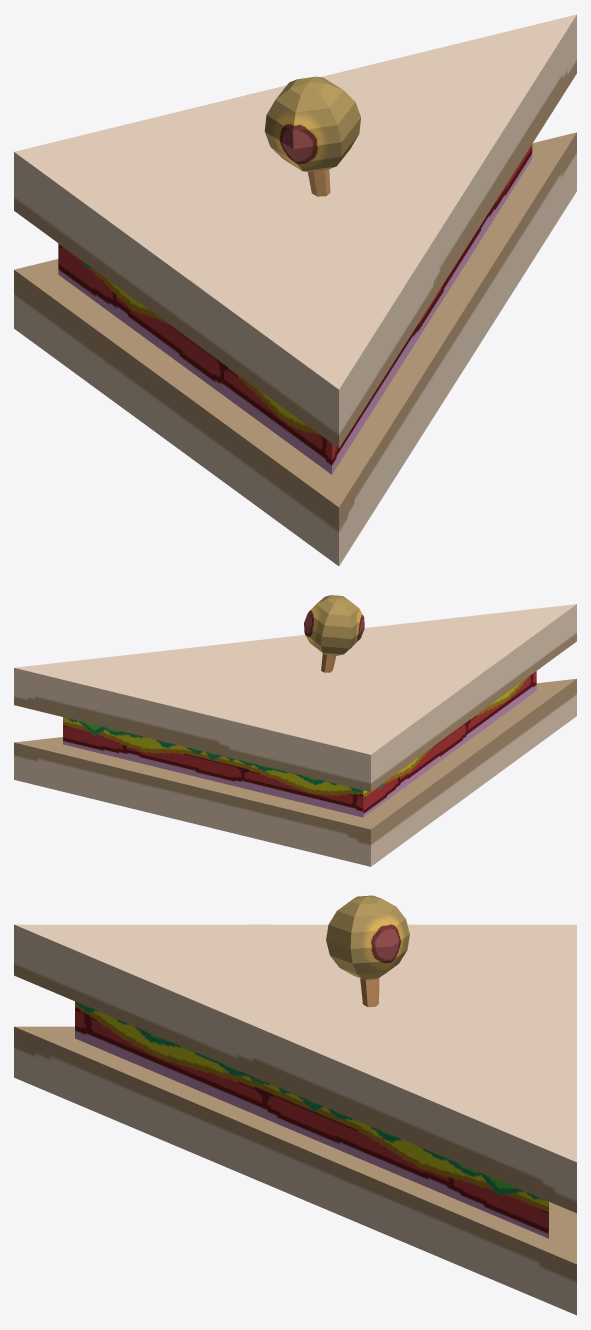
Rendered from Sandwich.fbx.
The picture shows the model from 3 angles, top to bottom: view 1: azimuth 30°, elevation 25°; view 2: azimuth 150°, elevation 25°; view 3: azimuth 270°, elevation 25°; orthographic projection. The views are drawn at different scales.
Parts seen in each view (by area): view 1: Sandwich; view 2: Sandwich; view 3: Sandwich.
Part boxes in pixels (x1,y1,x2,y2): Sandwich: (14, 14, 576, 565); Sandwich: (14, 595, 576, 866); Sandwich: (14, 895, 576, 1315).
Bounding box in the file's own units: 100 × 49.68 × 100.
Materials: 1 (1 with a texture image).
